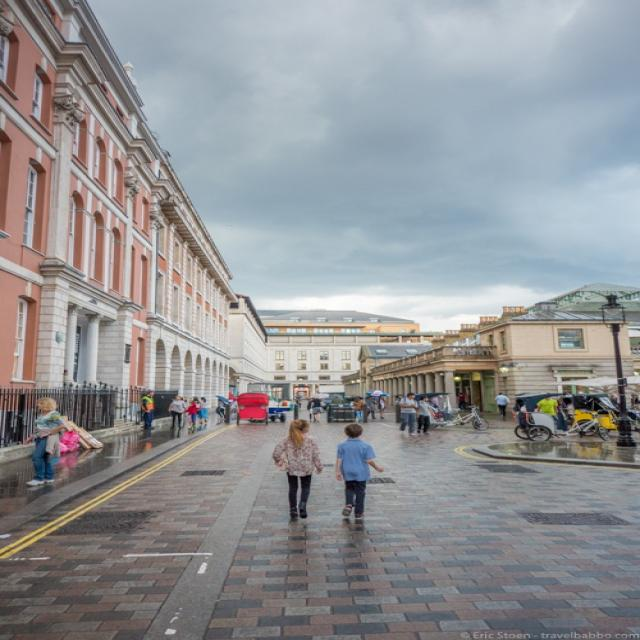body: (269, 416, 324, 520), (334, 422, 385, 520), (19, 395, 67, 486), (397, 391, 420, 437), (415, 394, 439, 435), (138, 388, 158, 430), (166, 393, 187, 428), (535, 392, 559, 422), (186, 395, 201, 429), (492, 391, 511, 416), (352, 395, 367, 422), (363, 395, 378, 421), (310, 396, 324, 423), (375, 394, 389, 420), (196, 395, 208, 423), (421, 396, 433, 424), (182, 392, 190, 428), (305, 399, 316, 424), (512, 398, 531, 412), (224, 397, 238, 416), (279, 396, 302, 407), (214, 398, 226, 419), (456, 391, 466, 410), (321, 398, 329, 410)
